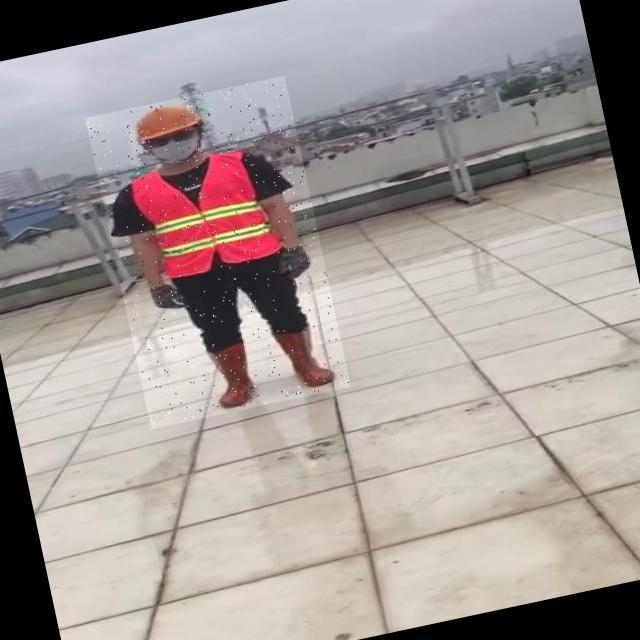Gloves: (143, 281, 189, 316), (277, 246, 316, 281)
Helmet: (125, 97, 204, 144)
Human: (85, 75, 351, 428)
Safety Boot: (270, 321, 339, 393), (203, 341, 261, 411)
Safety Vest: (126, 146, 283, 284)
